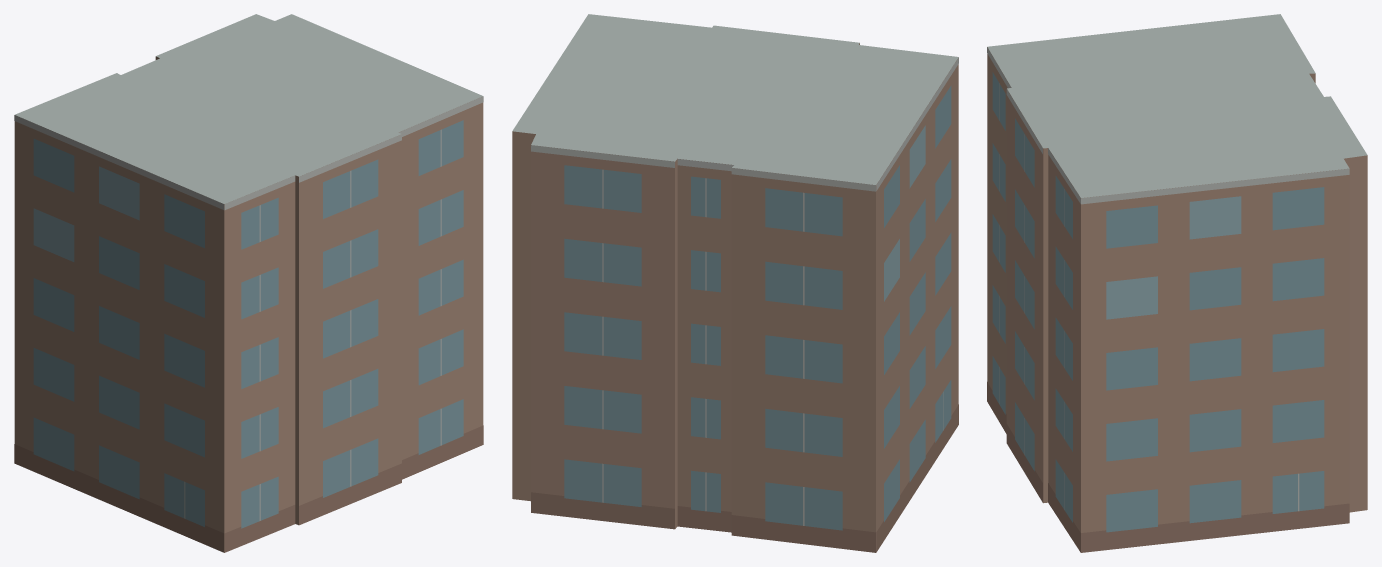
Rendered from survey-upis-32683424.glb.
3 renders of one model, left to right at view 1: azimuth 30°, elevation 25°; view 2: azimuth 150°, elevation 25°; view 3: azimuth 270°, elevation 25°, orthographic. The views are drawn at different scales.
Visible parts, largest first — view 1: survey-upis-32683424.tmp; view 2: survey-upis-32683424.tmp; view 3: survey-upis-32683424.tmp.
Boxes of the visible parts, x1,y1,x2,y2 form: survey-upis-32683424.tmp: (14, 14, 483, 552); survey-upis-32683424.tmp: (512, 14, 958, 552); survey-upis-32683424.tmp: (987, 14, 1367, 552).
Size of the model in its own units: 15.37 by 13.8 by 13.43.
